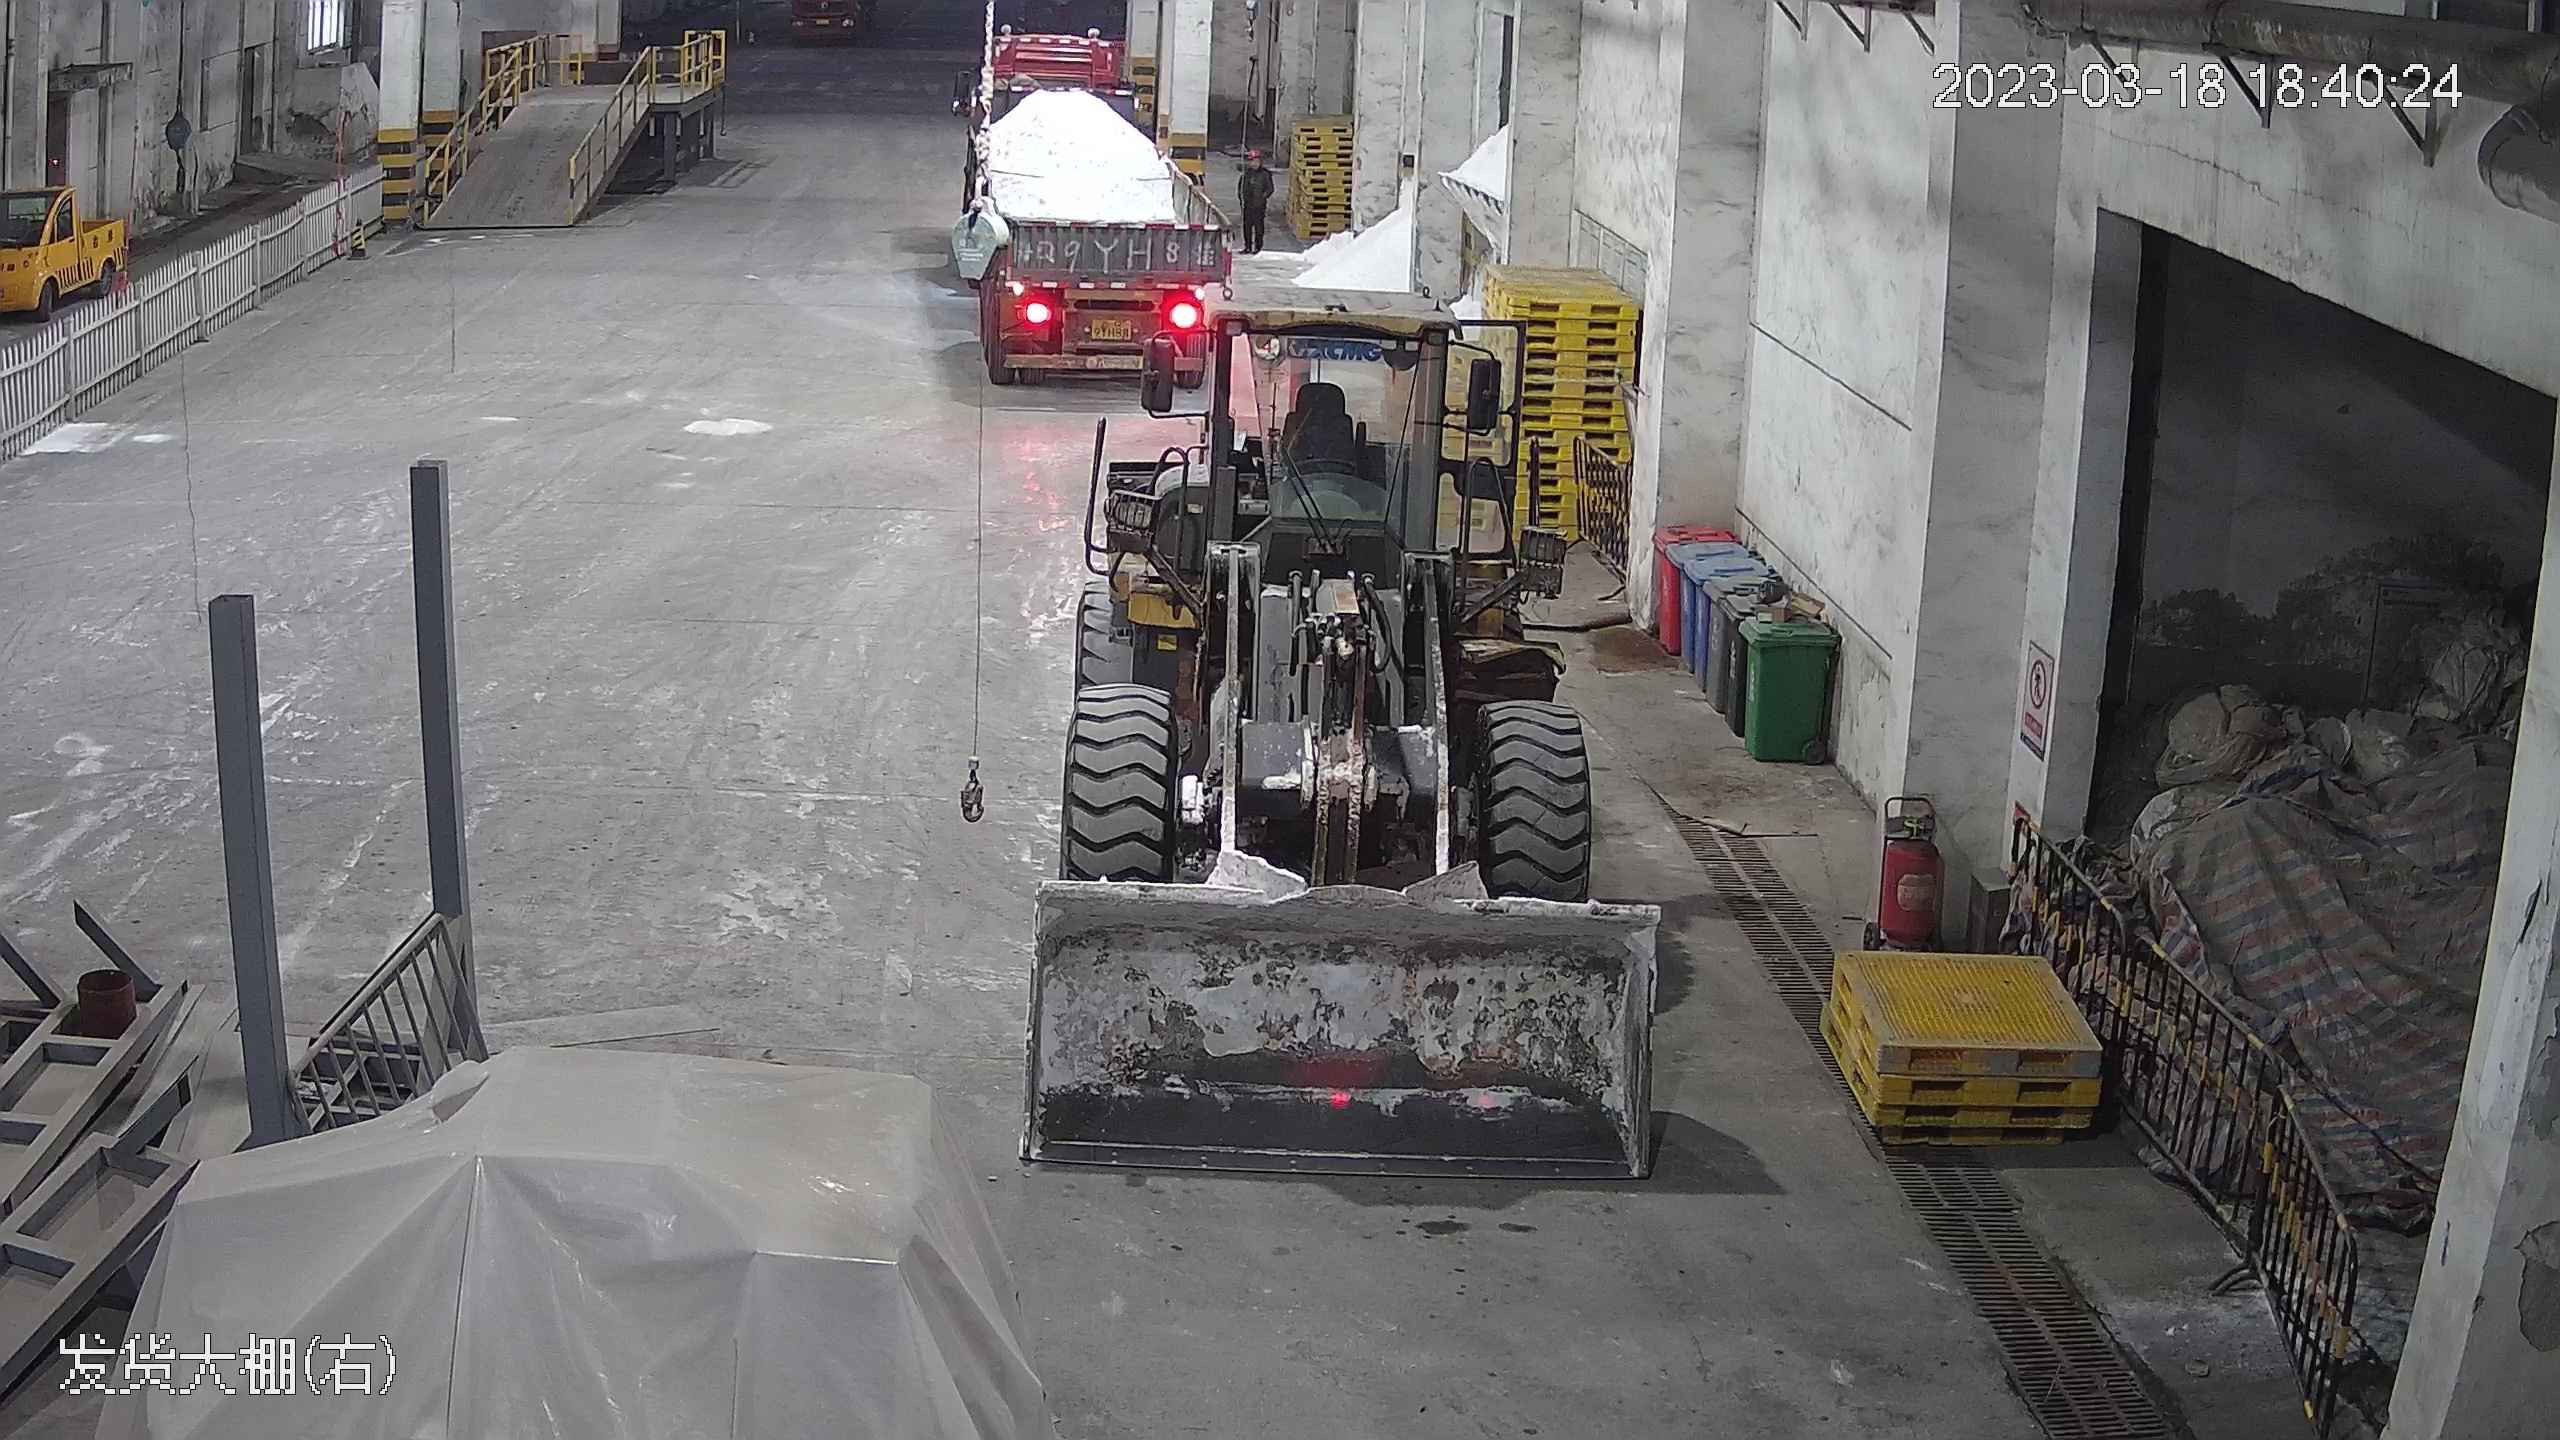head: (1240, 147, 1271, 184)
helmet: (1247, 148, 1262, 161)
people: (1239, 146, 1274, 245)
truck: (949, 8, 1241, 391)
